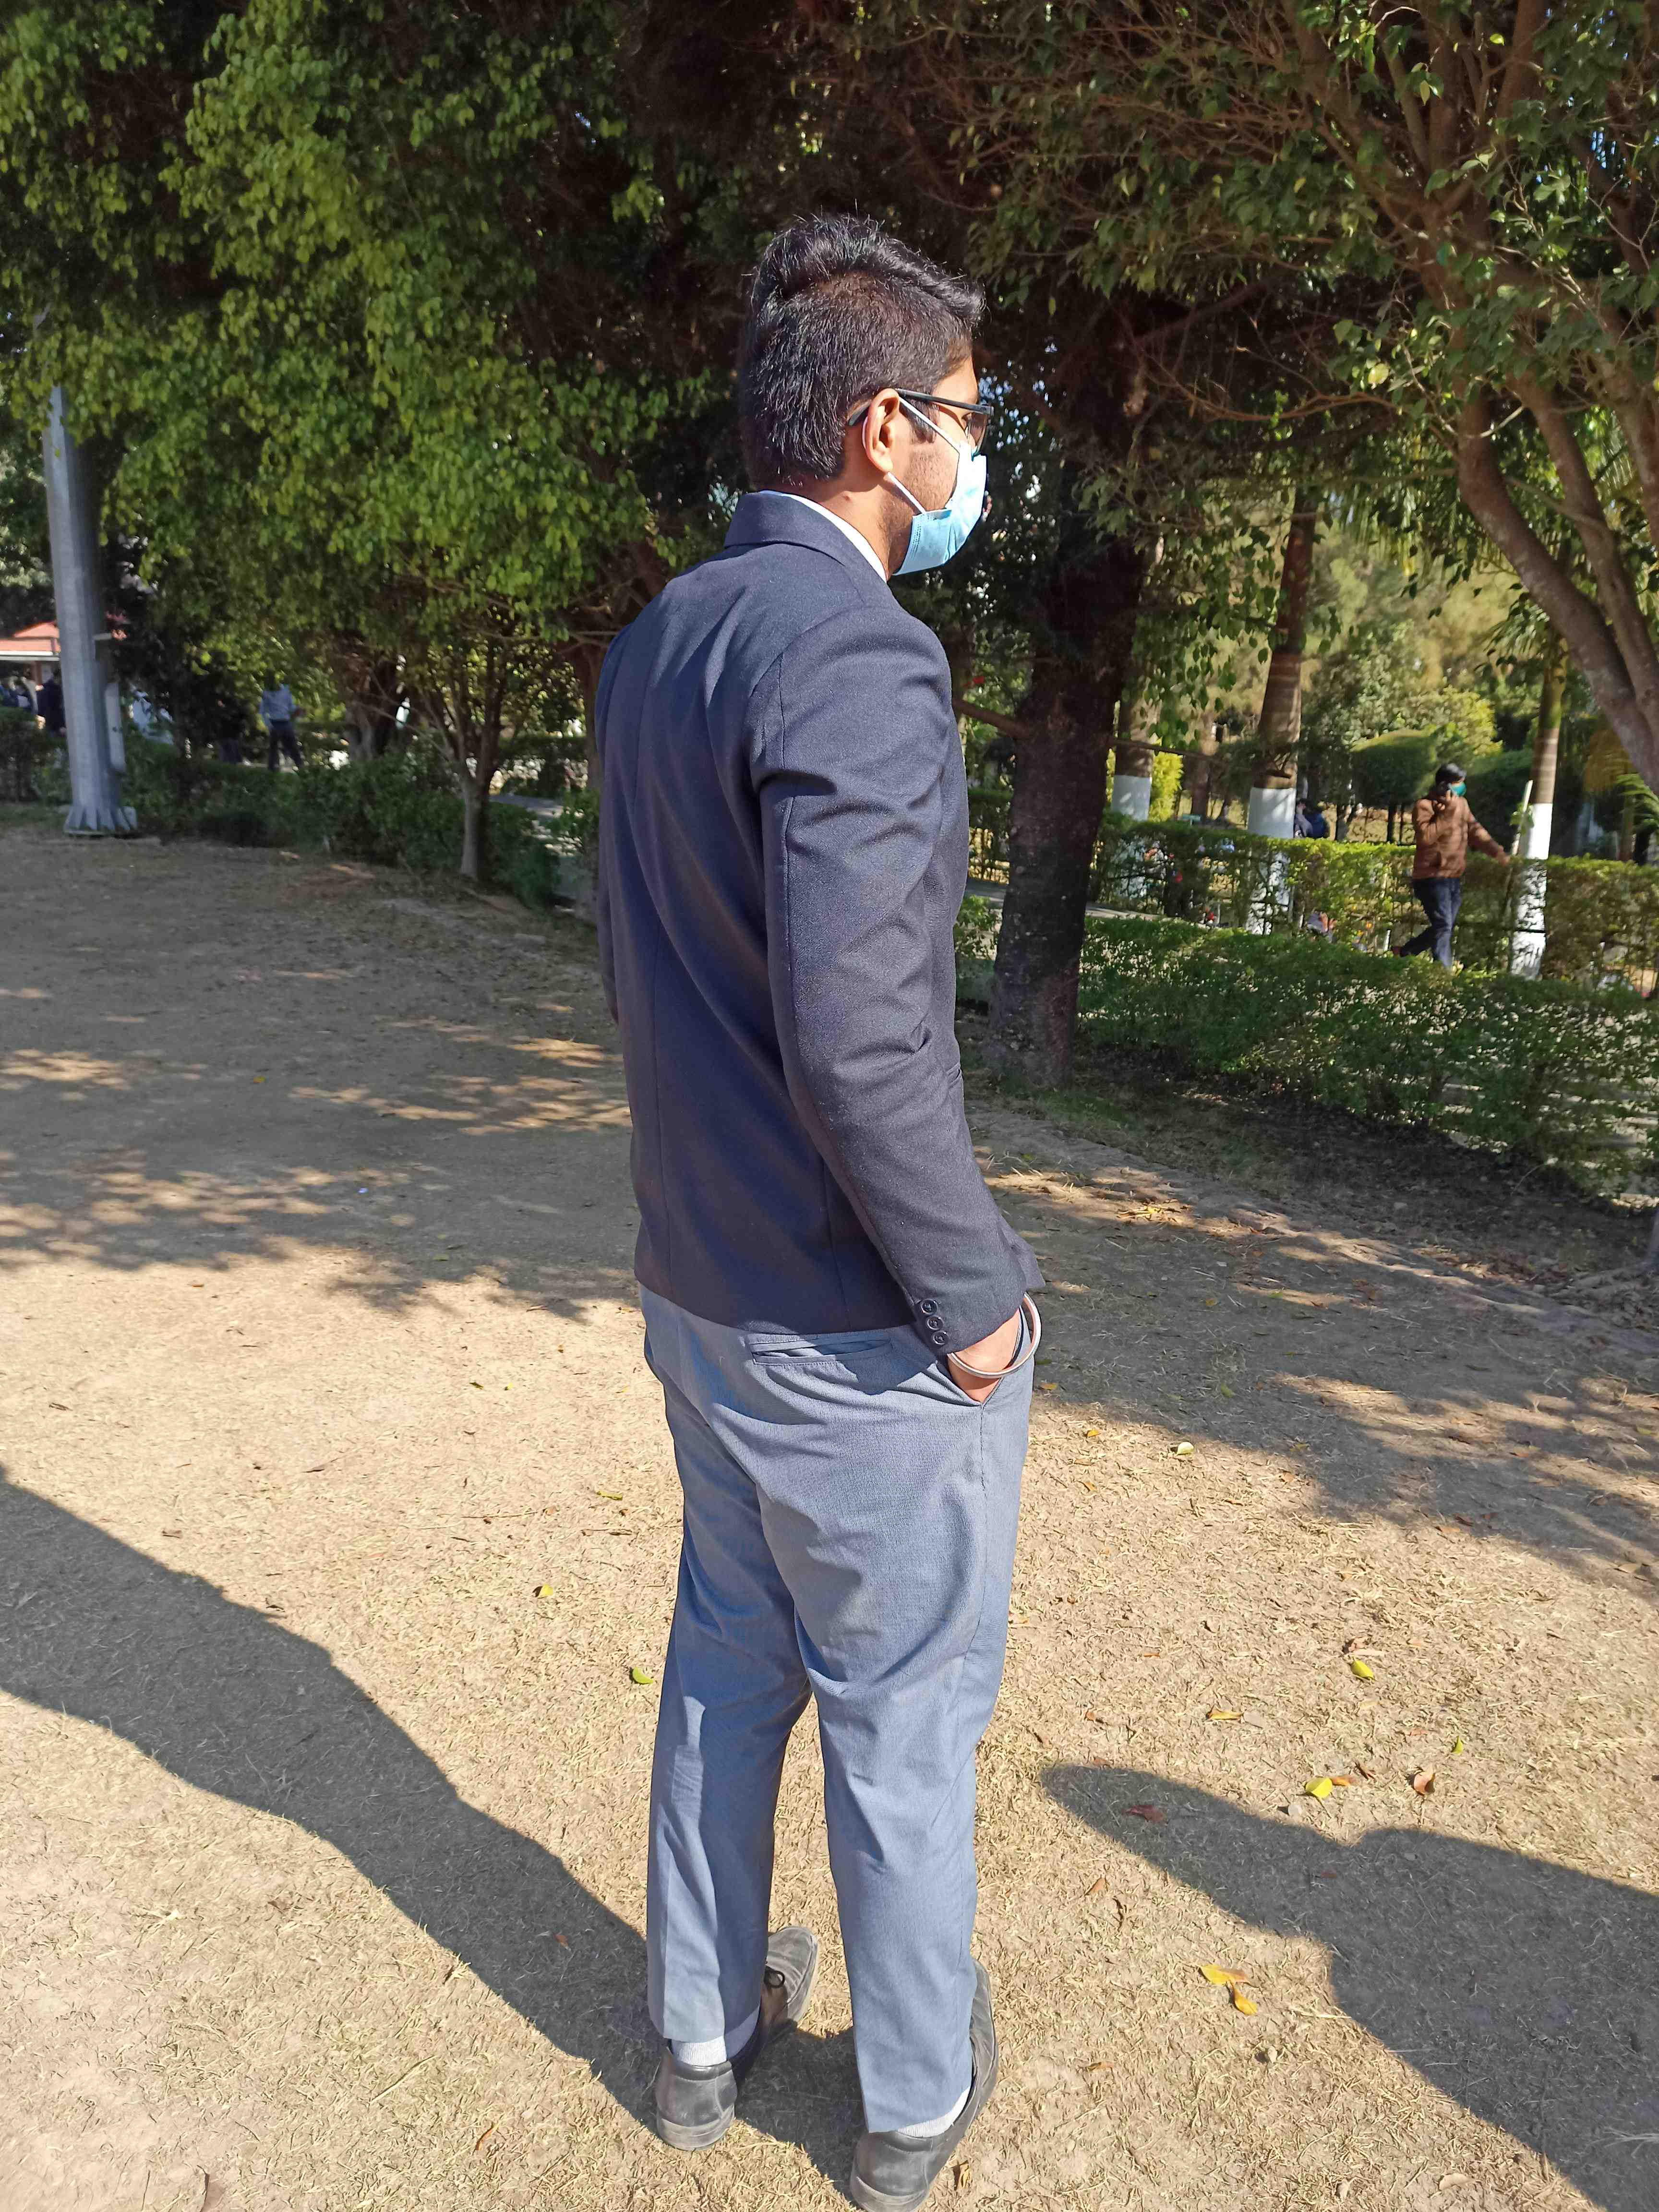blazer: (603, 467, 1028, 1367)
pant: (626, 1256, 1033, 2106)
